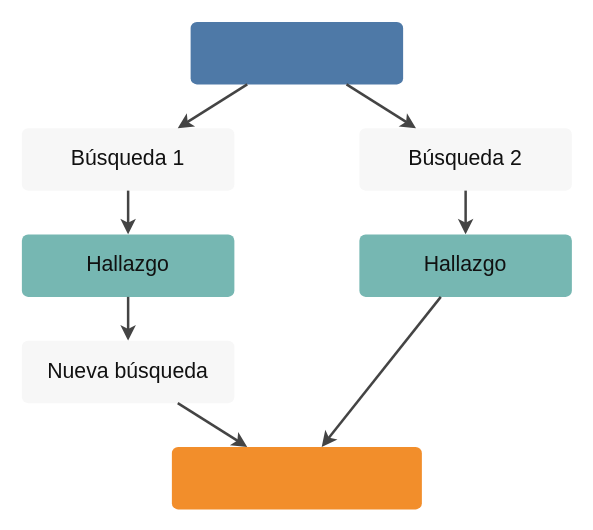
This 593x530 diagram has some shape labels left out. Each missing label, with the centre of its shape:
"Informe con fuentes" belongs at (296,477).
"Pregunta amplia" belongs at (296,52).
